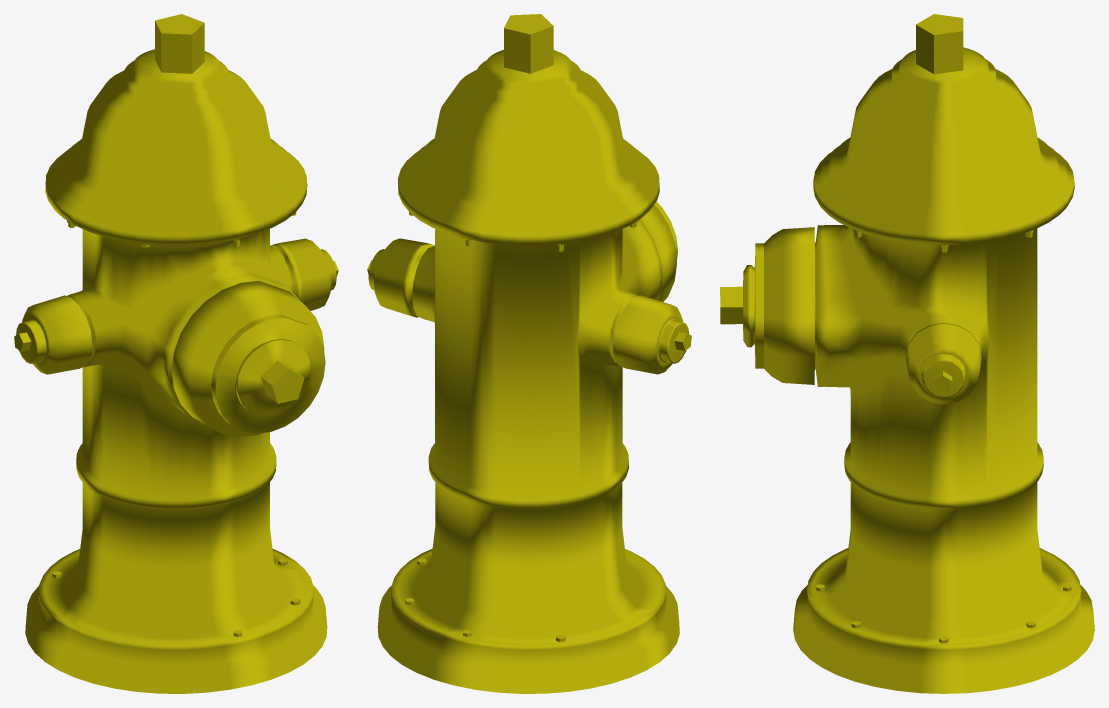
Rendered from Grifo.fbx.
3 views of the same model, side by side, from view 1: azimuth 30°, elevation 25°; view 2: azimuth 150°, elevation 25°; view 3: azimuth 270°, elevation 25° (orthographic).
Visible parts, largest first — view 1: Grifo; view 2: Grifo; view 3: Grifo.
Boxes of the visible parts, x1,y1,x2,y2 form: Grifo: (14,14,338,693); Grifo: (367,14,691,693); Grifo: (720,14,1094,693).
Size of the model in its own units: 78.11 by 143 by 79.93.
